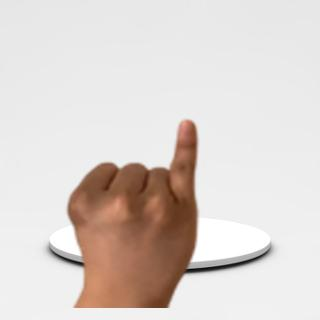FINE: (62, 113, 206, 301)
